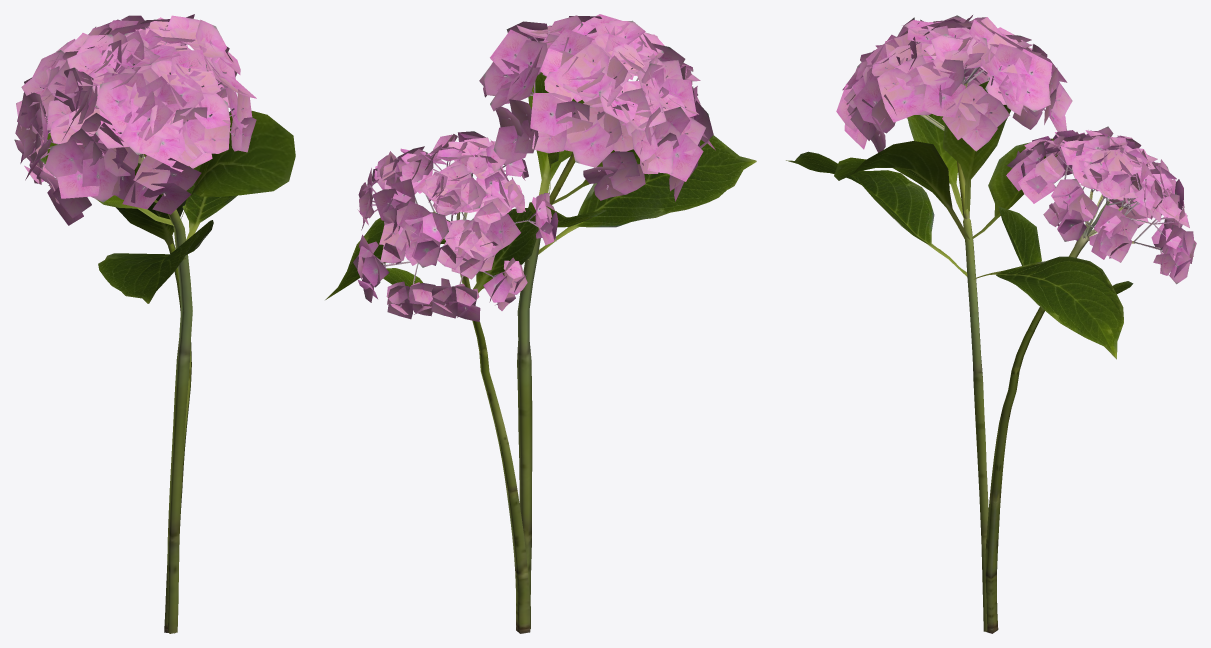
File: Hydrangea_bush_short_pink.glb
The picture shows the model from 3 angles, left to right: view 1: azimuth 30°, elevation 25°; view 2: azimuth 150°, elevation 25°; view 3: azimuth 270°, elevation 25°; orthographic projection. The views are drawn at different scales.
Parts seen in each view (by area): view 1: BUSHEKK; view 2: BUSHEKK; view 3: BUSHEKK.
Boxes of the visible parts, x1=… form: BUSHEKK: x1=14, y1=14, x2=295, y2=633; BUSHEKK: x1=325, y1=14, x2=756, y2=633; BUSHEKK: x1=786, y1=15, x2=1196, y2=633.
Size of the model in its own units: 1.48 by 2.94 by 1.87.
Materials: 1 (1 with a texture image).
